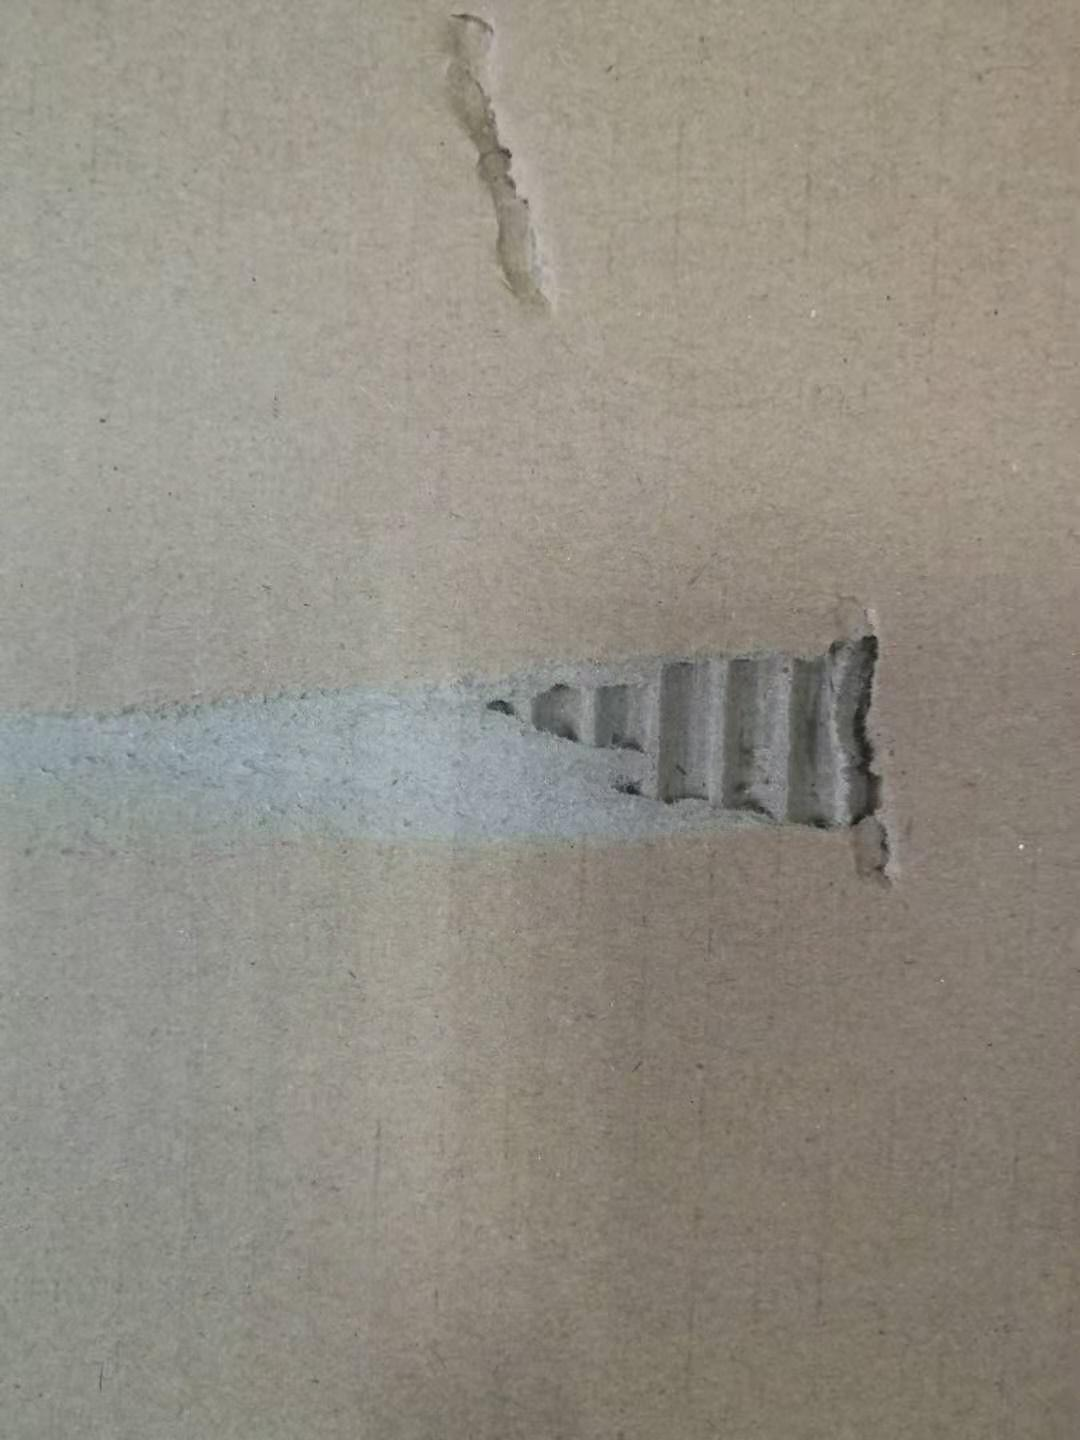defect: (2, 578, 948, 921), (399, 7, 591, 336)
